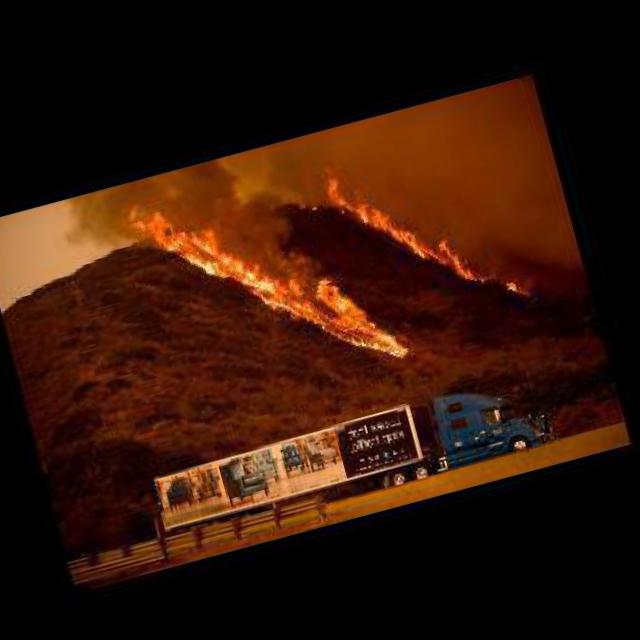fire: (121, 125, 488, 414)
